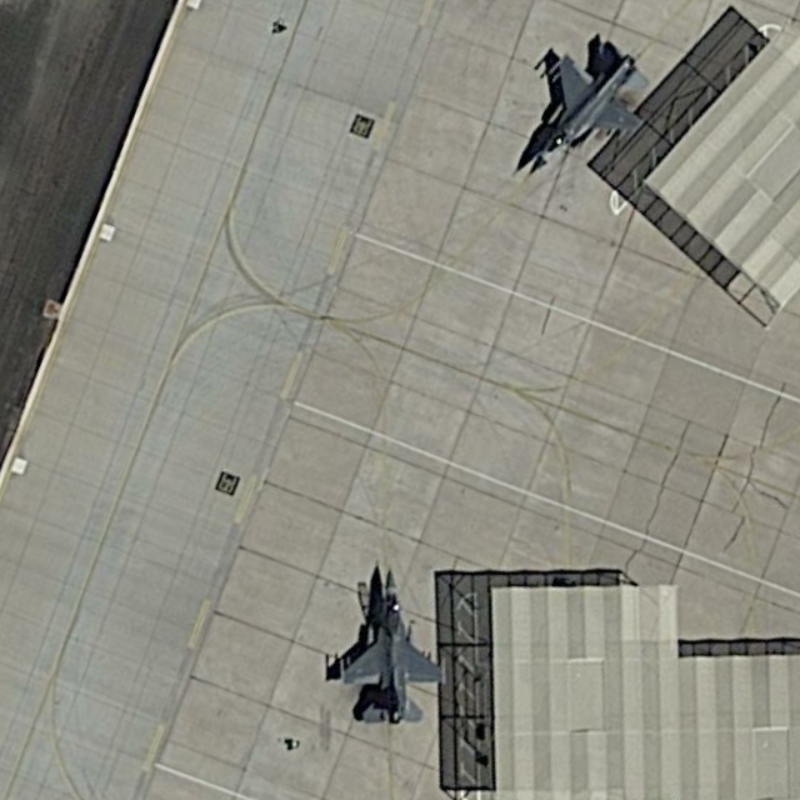A5: (325, 561, 449, 732), (515, 36, 653, 181)
